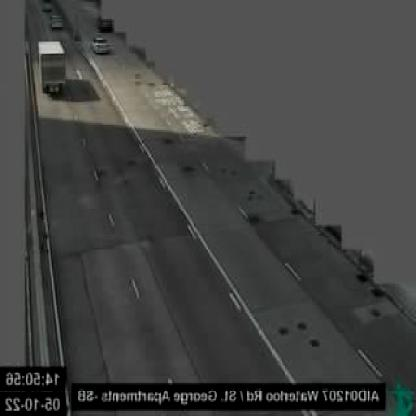Car: (94, 36, 112, 54)
Truck: (38, 40, 67, 99)
